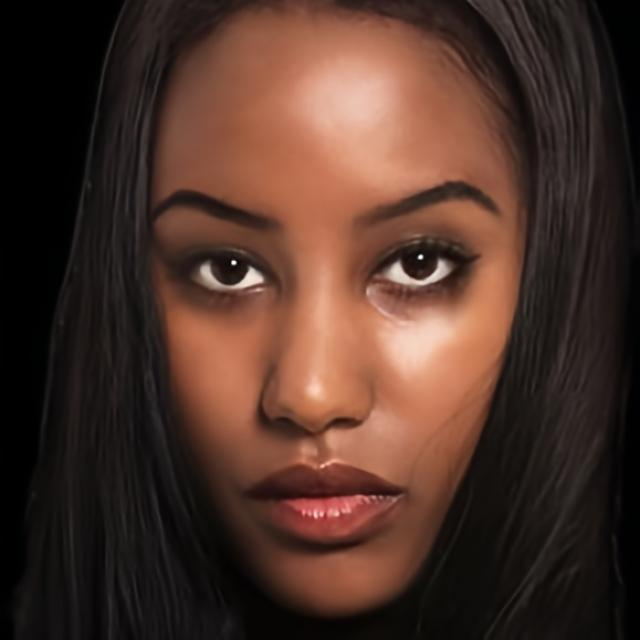neutral: (138, 0, 528, 616)
